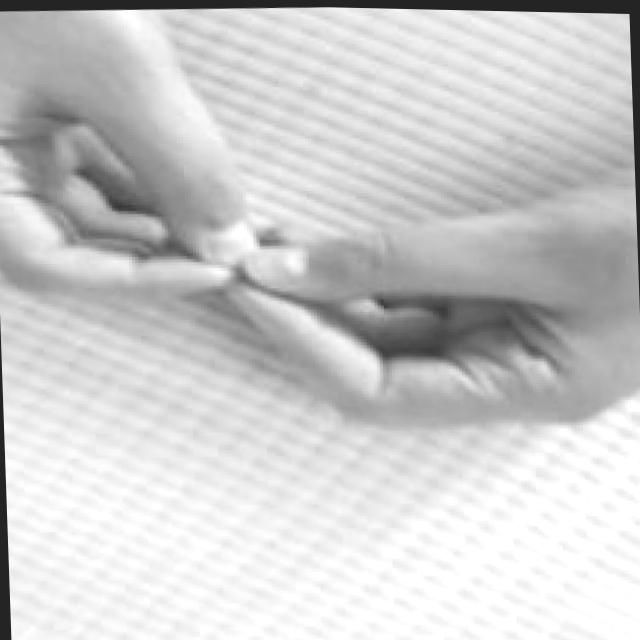B: (0, 0, 640, 464)
